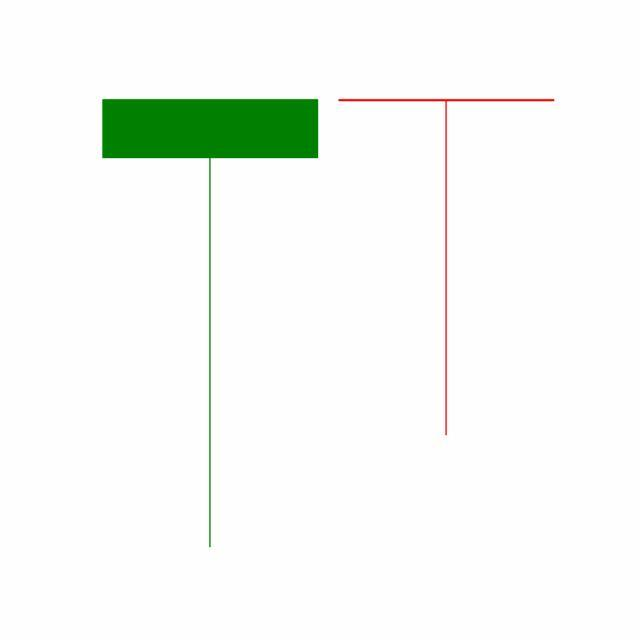Dragonfly Doji: (328, 96, 566, 439)
